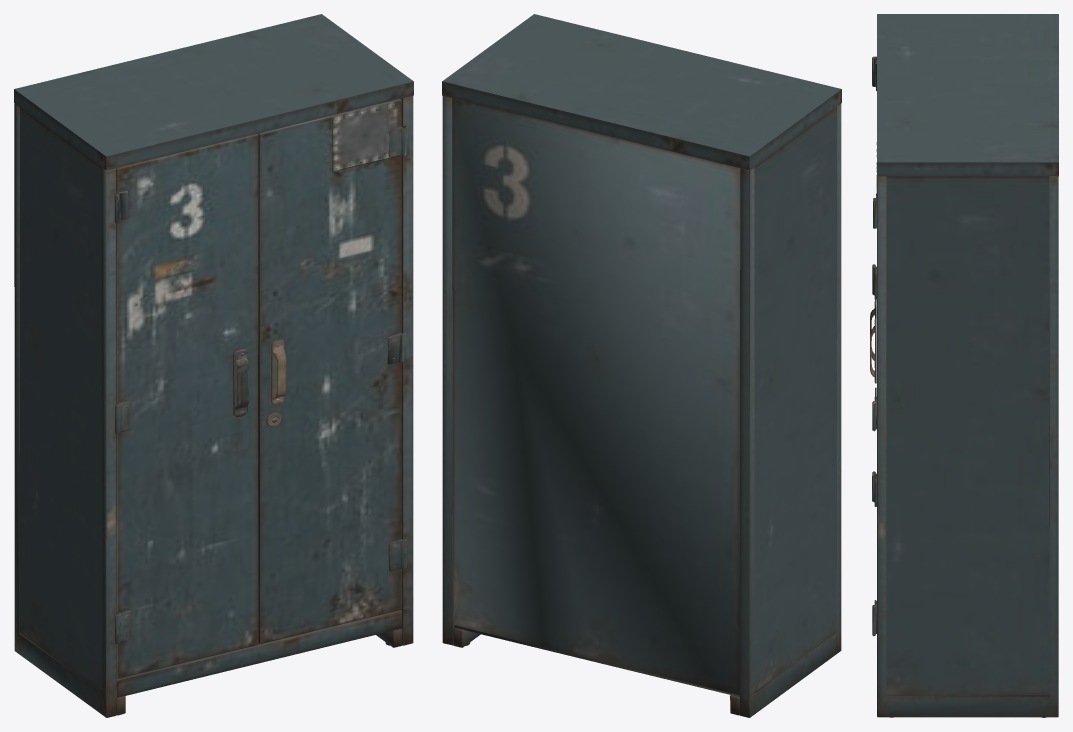
File: cabinet-tall-t25r1.glb
The picture shows the model from 3 angles, left to right: view 1: azimuth 30°, elevation 25°; view 2: azimuth 150°, elevation 25°; view 3: azimuth 270°, elevation 25°; orthographic projection.
Visible parts, largest first — view 1: cabinet-tall-t25r1; view 2: cabinet-tall-t25r1; view 3: cabinet-tall-t25r1.
Part boxes in pixels (x1,y1,x2,y2): cabinet-tall-t25r1: [14, 14, 413, 717]; cabinet-tall-t25r1: [442, 14, 841, 717]; cabinet-tall-t25r1: [870, 14, 1058, 717].
Size of the model in its own units: 1.08 by 1.9 by 0.583.
Materials: 1 (1 with a texture image).
